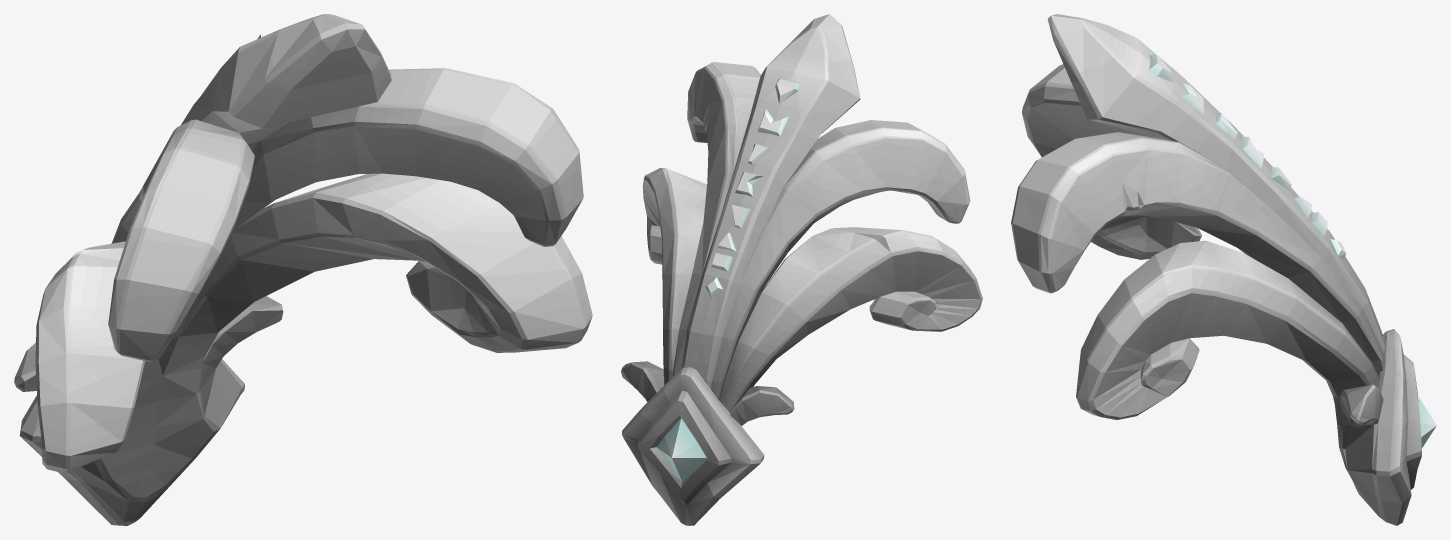
Rendered from CharSkyKid_Face_AP26Plume.glb.
3 views of the same model, side by side, from view 1: azimuth 30°, elevation 25°; view 2: azimuth 150°, elevation 25°; view 3: azimuth 270°, elevation 25° (orthographic). The views are drawn at different scales.
Parts seen in each view (by area): view 1: CharSkyKid_Face_AP26Plume; view 2: CharSkyKid_Face_AP26Plume; view 3: CharSkyKid_Face_AP26Plume.
Part boxes in pixels (<box>): CharSkyKid_Face_AP26Plume: <box>14,14,592,525</box>; CharSkyKid_Face_AP26Plume: <box>621,14,982,525</box>; CharSkyKid_Face_AP26Plume: <box>1011,14,1436,525</box>.
Bounding box in the file's own units: 3.34 × 3.92 × 2.98.
1 material, 1 textured.
